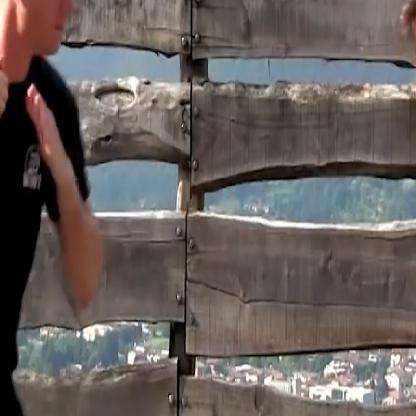knife: (0, 43, 13, 226)
